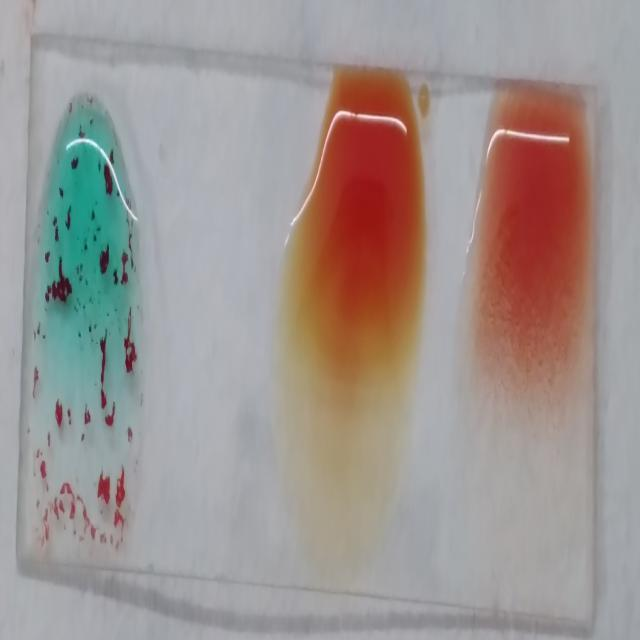A: (29, 90, 140, 544)
D: (485, 101, 585, 461)
